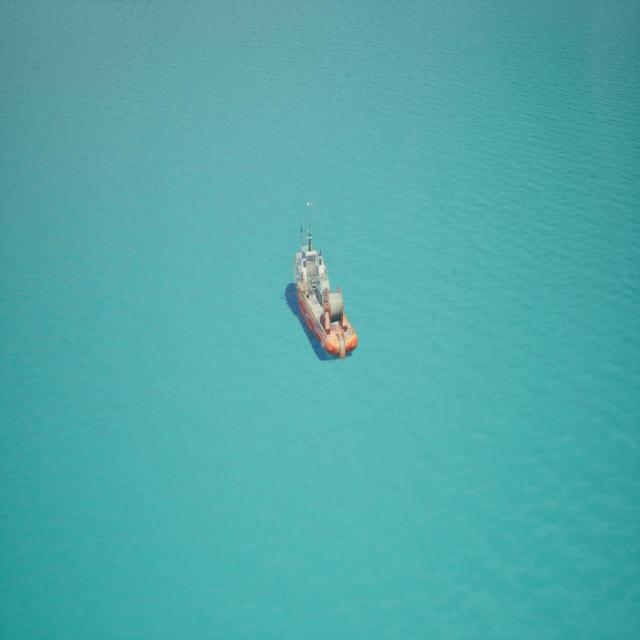tug boat: (252, 162, 366, 378)
